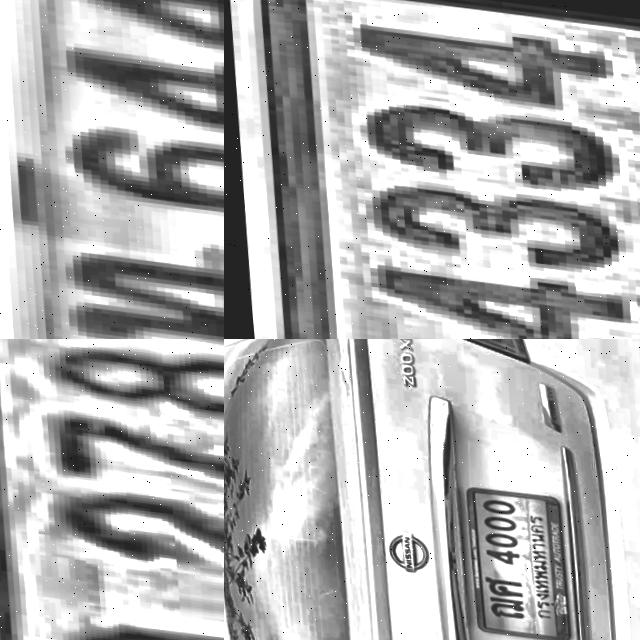license-plate: (246, 0, 640, 339), (0, 0, 224, 339), (0, 339, 224, 640), (457, 474, 569, 632)
